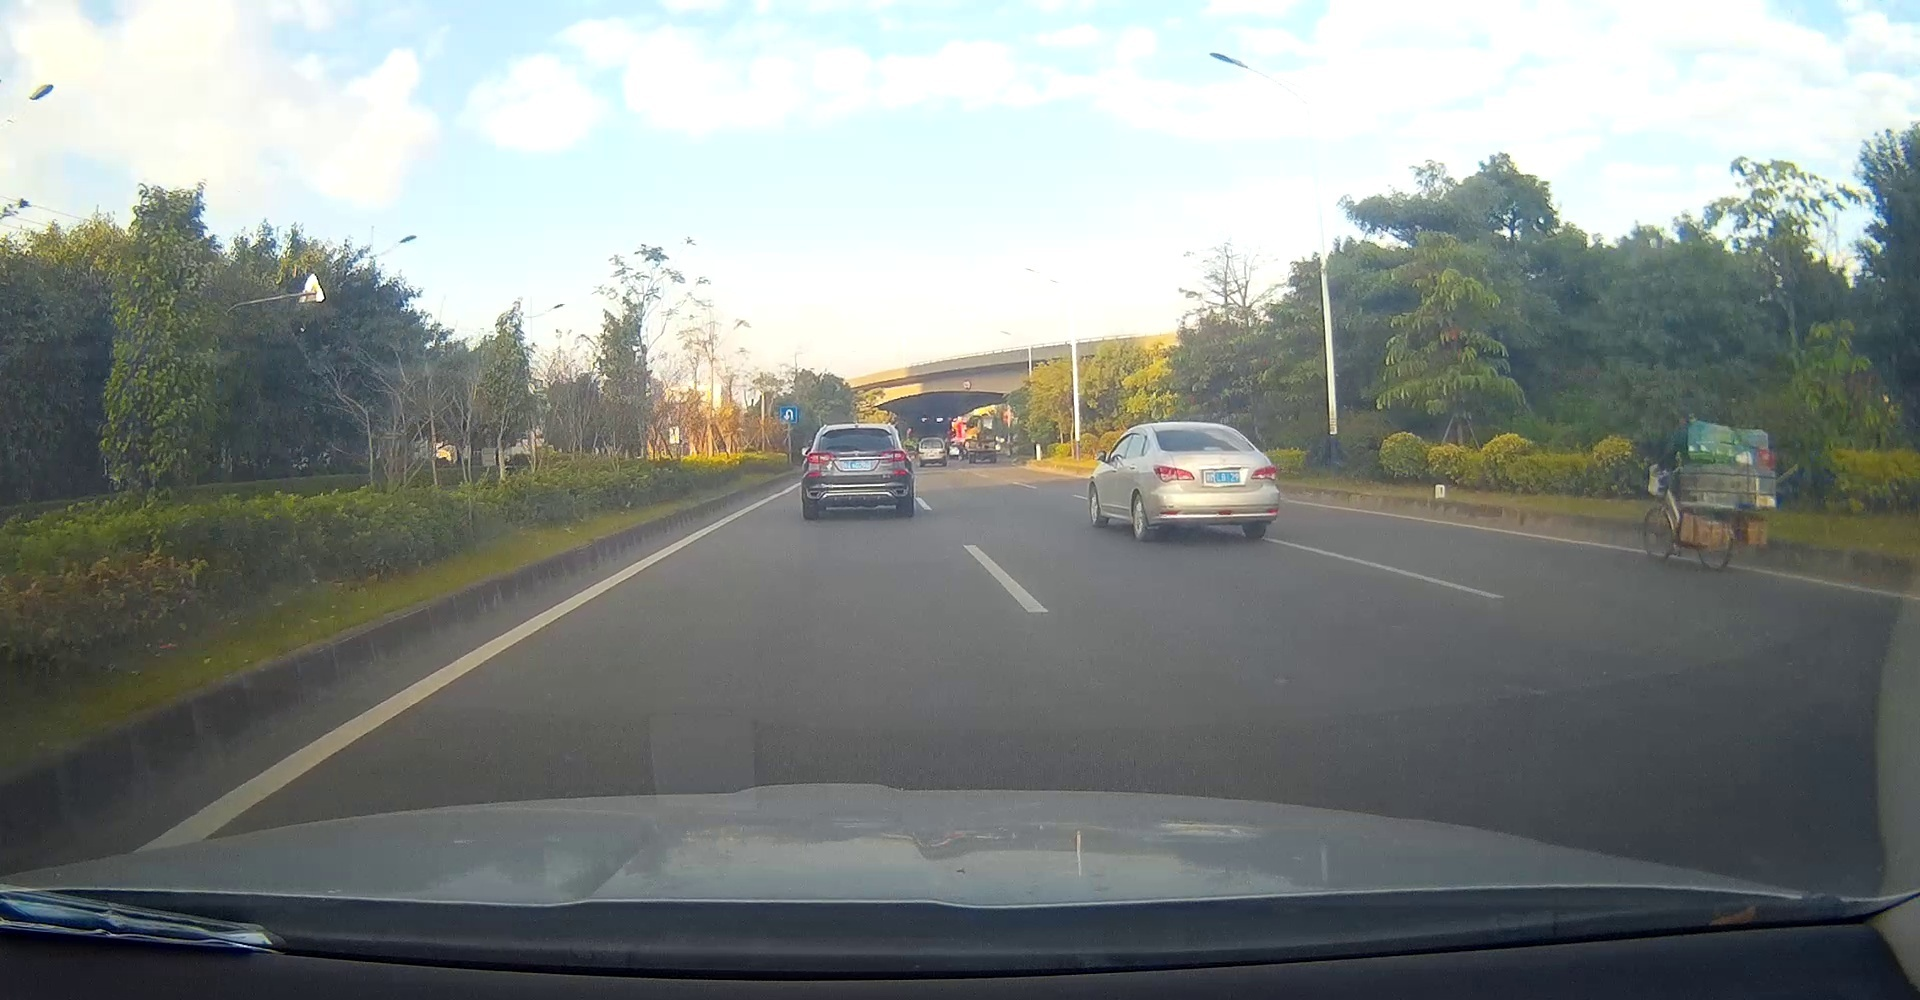L_light: (1154, 464, 1196, 484), (808, 453, 830, 463)
R_light: (1250, 464, 1277, 481), (877, 451, 905, 459)
T_light: (1203, 447, 1223, 451), (846, 429, 867, 431)
day-no: (1154, 421, 1280, 541), (800, 423, 913, 516)
